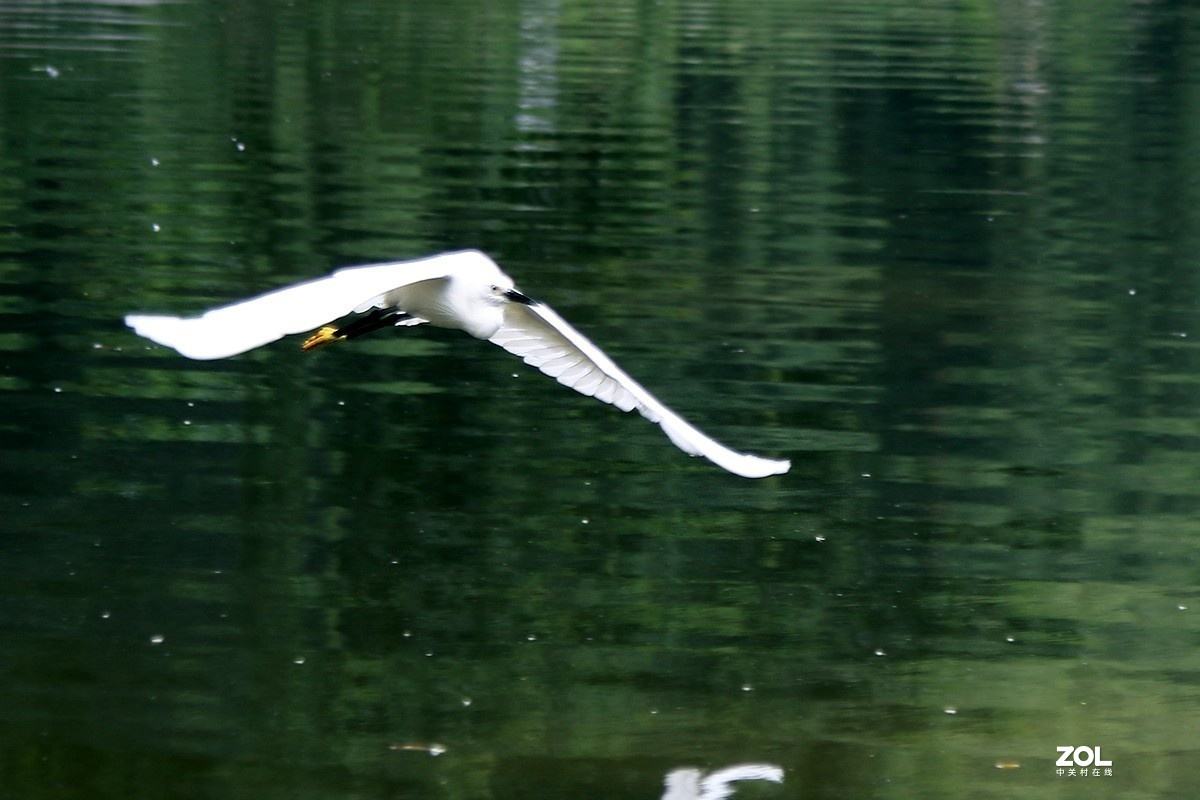bird: (124, 228, 790, 490)
